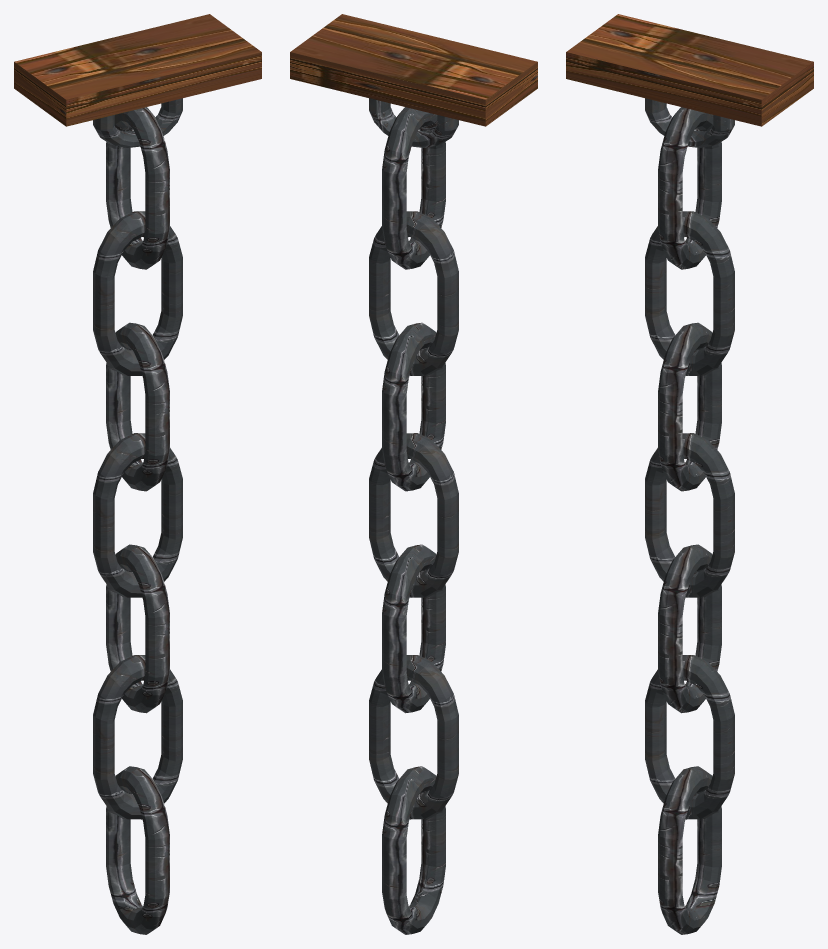
Rendered from цепь.fbx.
The picture shows the model from 3 angles, left to right: view 1: azimuth 30°, elevation 25°; view 2: azimuth 150°, elevation 25°; view 3: azimuth 330°, elevation 25°; orthographic projection.
Visible parts, largest first — view 1: начало цепи, цепь.007, цепь.006, цепь.002, цепь.004, цепь.001, цепь.005, цепь.003, цепь; view 2: начало цепи, цепь.007, цепь.006, цепь.002, цепь.004, цепь.001, цепь.005, цепь.003, цепь; view 3: начало цепи, цепь.007, цепь.006, цепь.002, цепь.004, цепь.001, цепь.005, цепь.003, цепь.
Part boxes in pixels (left/top/right/bottom): начало цепи: left=14, top=14, right=261, bottom=126; цепь.007: left=106, top=766, right=169, bottom=934; цепь.006: left=93, top=655, right=182, bottom=819; цепь.002: left=93, top=211, right=182, bottom=375; цепь.004: left=93, top=433, right=182, bottom=597; цепь.001: left=106, top=107, right=169, bottom=269; цепь.005: left=106, top=544, right=169, bottom=713; цепь.003: left=106, top=322, right=169, bottom=491; цепь: left=93, top=98, right=182, bottom=147; начало цепи: left=290, top=14, right=537, bottom=126; цепь.007: left=382, top=766, right=445, bottom=934; цепь.006: left=369, top=655, right=458, bottom=819; цепь.002: left=369, top=211, right=458, bottom=375; цепь.004: left=369, top=433, right=458, bottom=597; цепь.001: left=382, top=107, right=445, bottom=269; цепь.005: left=382, top=544, right=445, bottom=713; цепь.003: left=382, top=322, right=445, bottom=491; цепь: left=369, top=98, right=458, bottom=147; начало цепи: left=566, top=14, right=813, bottom=126; цепь.007: left=658, top=766, right=721, bottom=934; цепь.006: left=645, top=655, right=734, bottom=819; цепь.002: left=645, top=211, right=734, bottom=375; цепь.004: left=645, top=433, right=734, bottom=597; цепь.001: left=658, top=107, right=721, bottom=269; цепь.005: left=658, top=544, right=721, bottom=713; цепь.003: left=658, top=322, right=721, bottom=491; цепь: left=645, top=98, right=734, bottom=147.
Size of the model in its own units: 434 by 1857 by 200.
